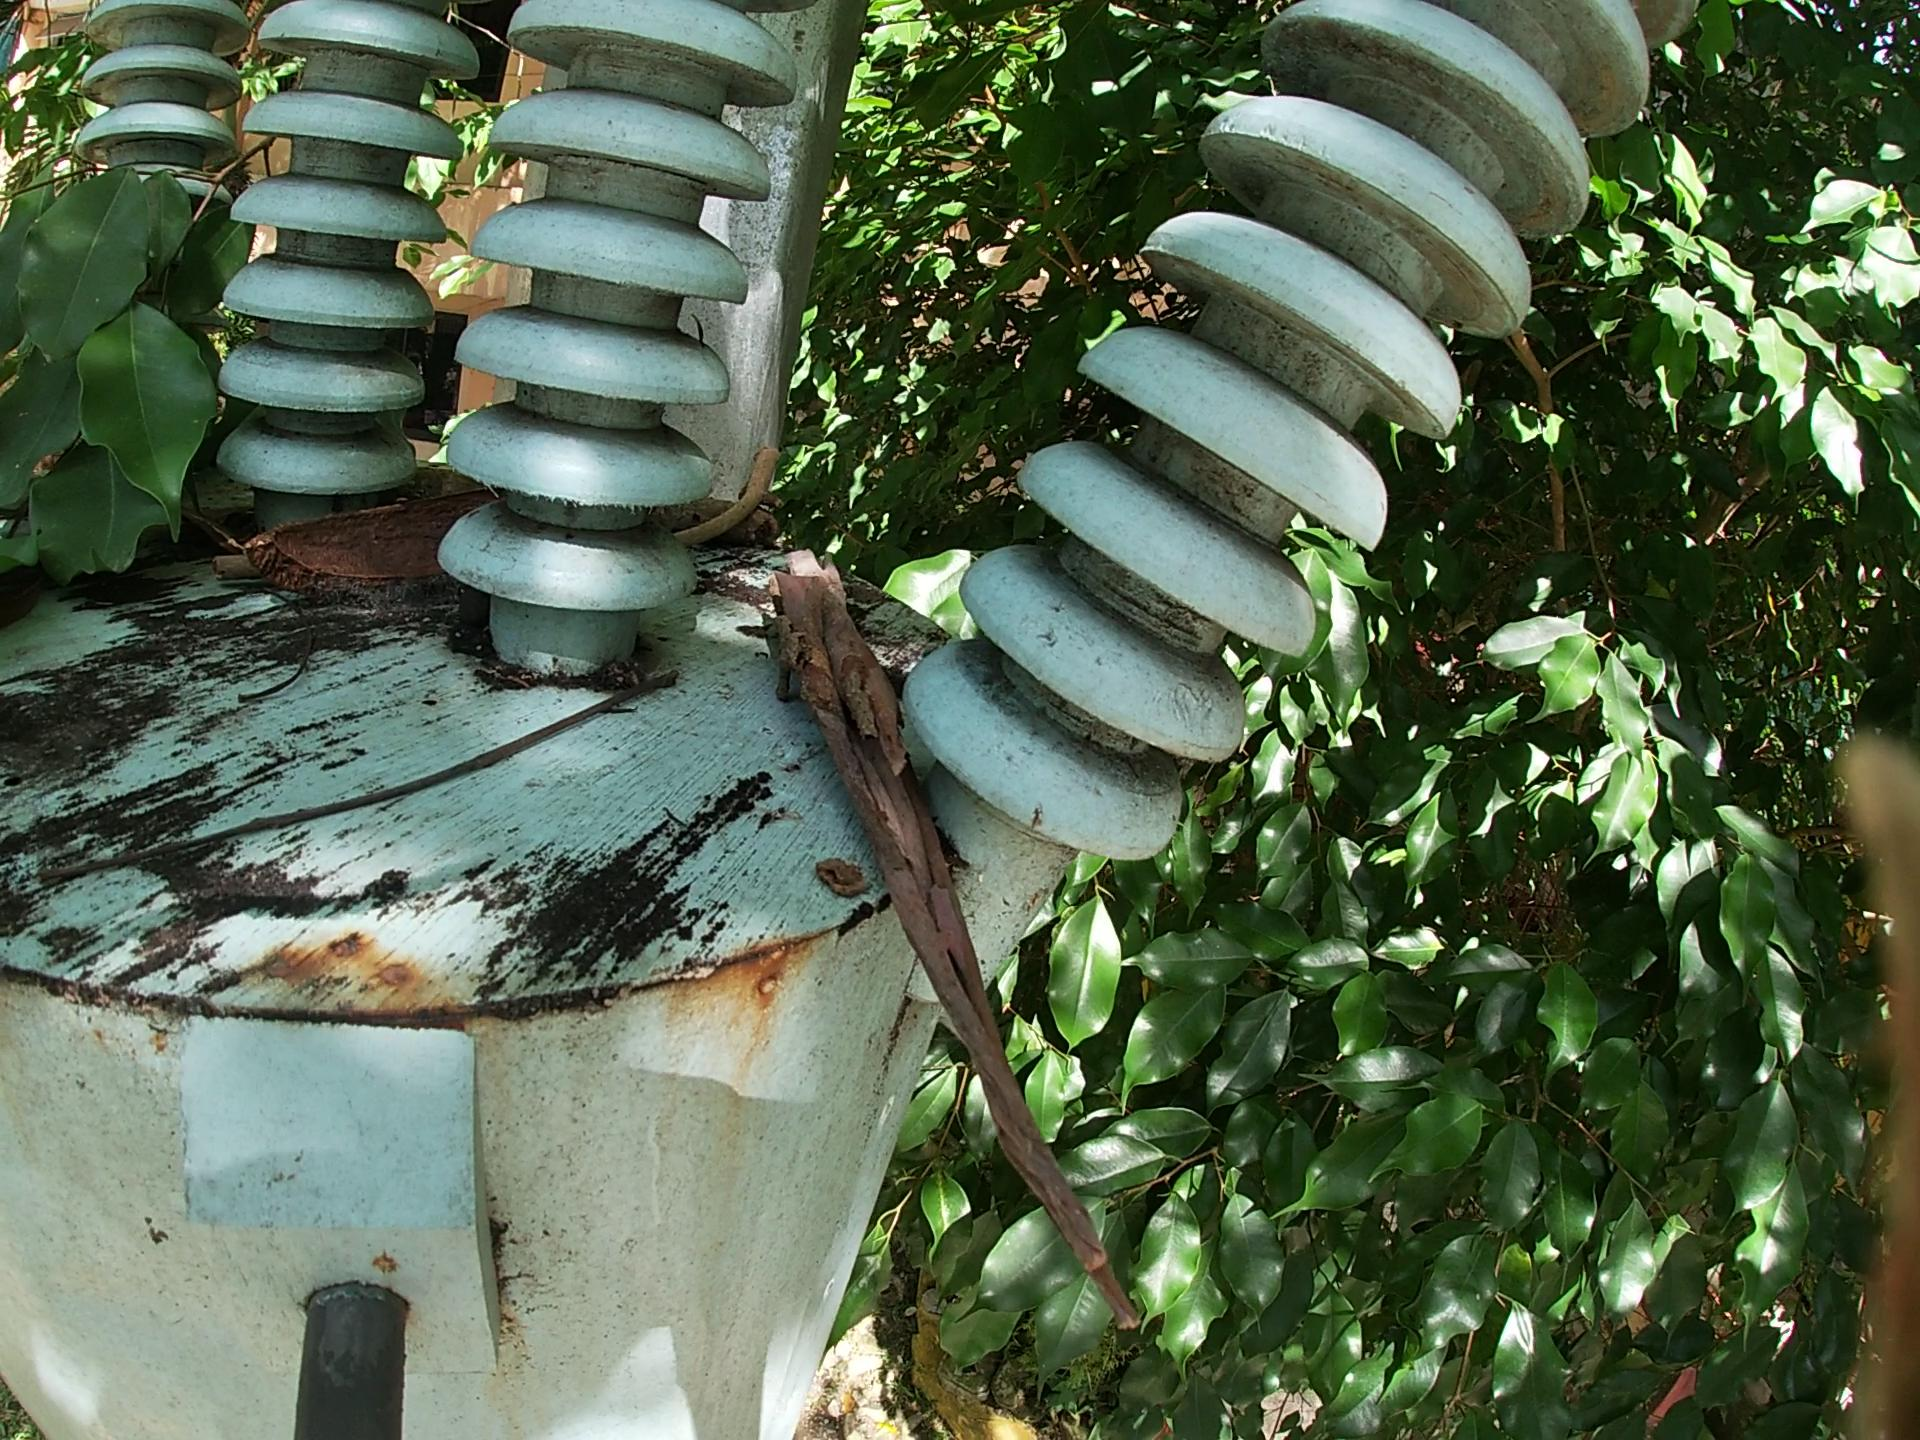branch with leaves: (2, 116, 293, 684)
mahogany fruit: (262, 479, 500, 617)
tree branch: (771, 516, 1166, 1343), (14, 641, 701, 909), (216, 579, 321, 728), (671, 436, 777, 551), (658, 483, 813, 548), (184, 548, 286, 585)
